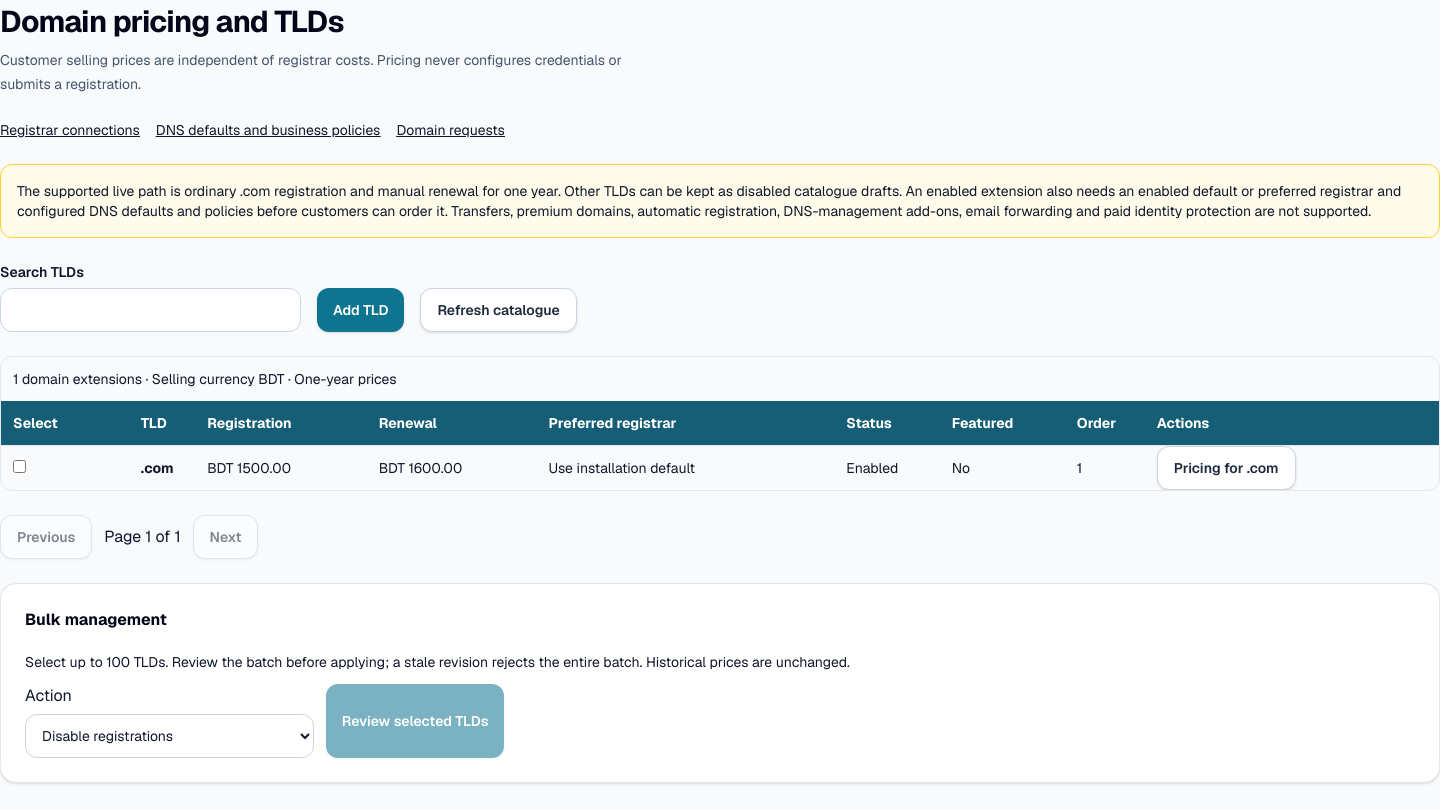
it: TLD catalogue › preserves a completed write when its refresh fails and never retries it
What coordinates should you click on to do the following:
click the button "Pricing for .com"
I would click on:
 (1226, 468)
Its box is x1=1157 y1=446 x2=1296 y2=490.
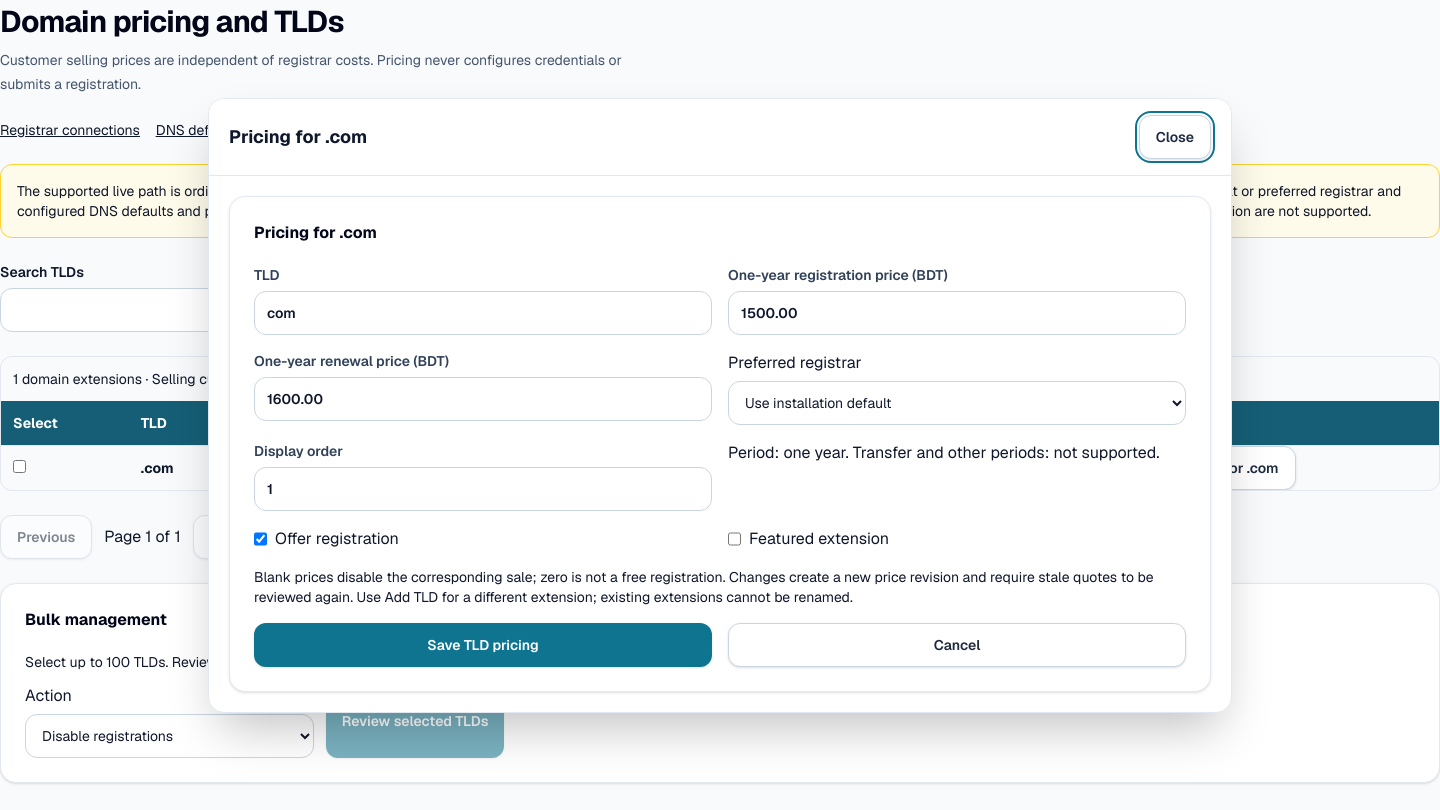
What coordinates should you click on to do the following:
click the button "Save TLD pricing"
I would click on:
 (483, 644)
Its box is x1=254 y1=622 x2=712 y2=666.
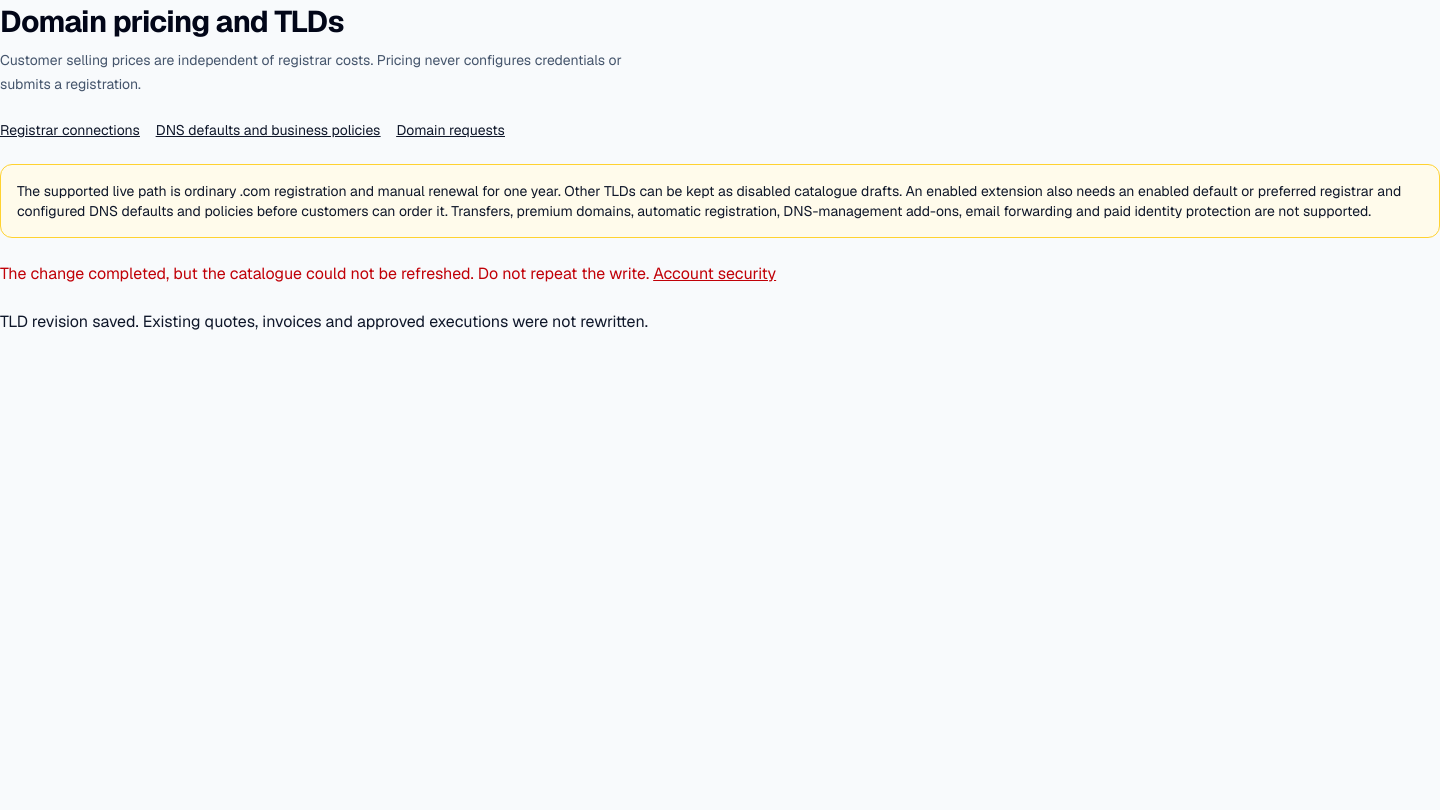
Expected: the text "The change completed, but the catalogue could not be refreshed" is shown, x1=0 y1=263 x2=649 y2=284
